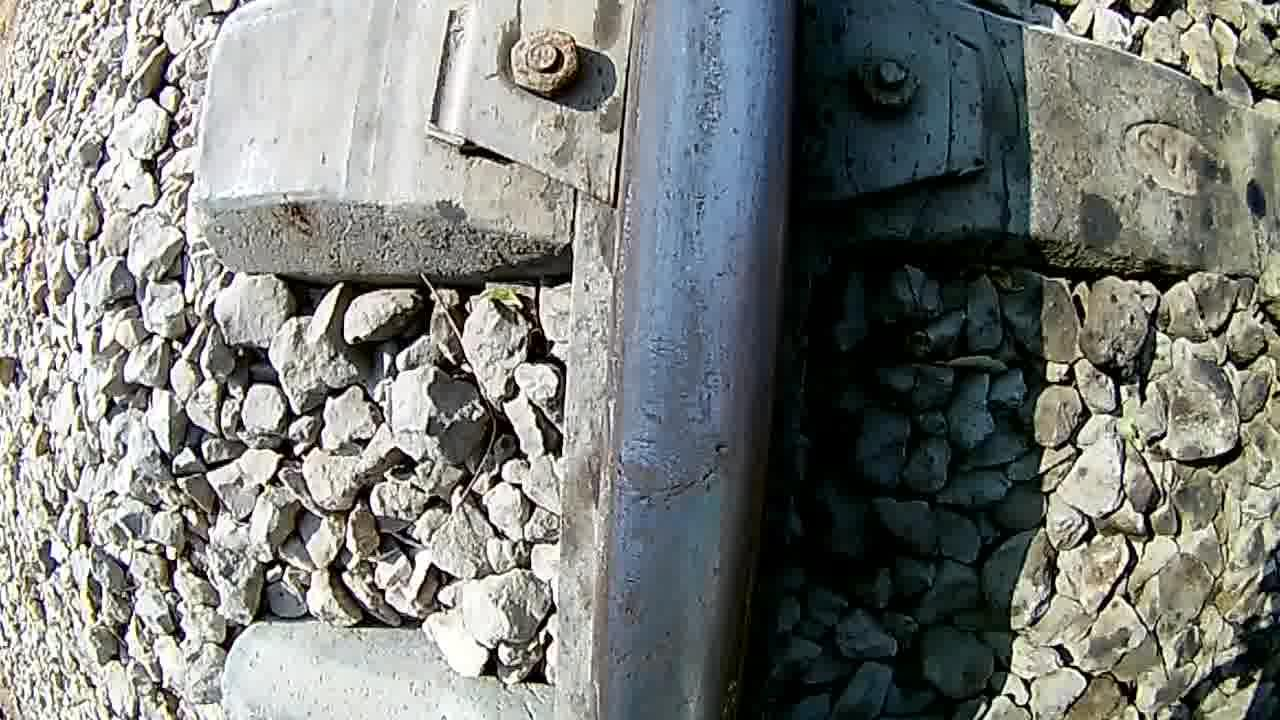crack: (584, 3, 793, 720)
